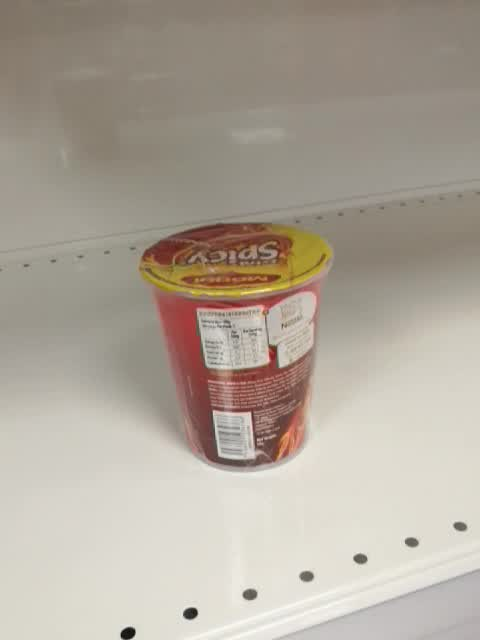maggi: (138, 220, 337, 473)
